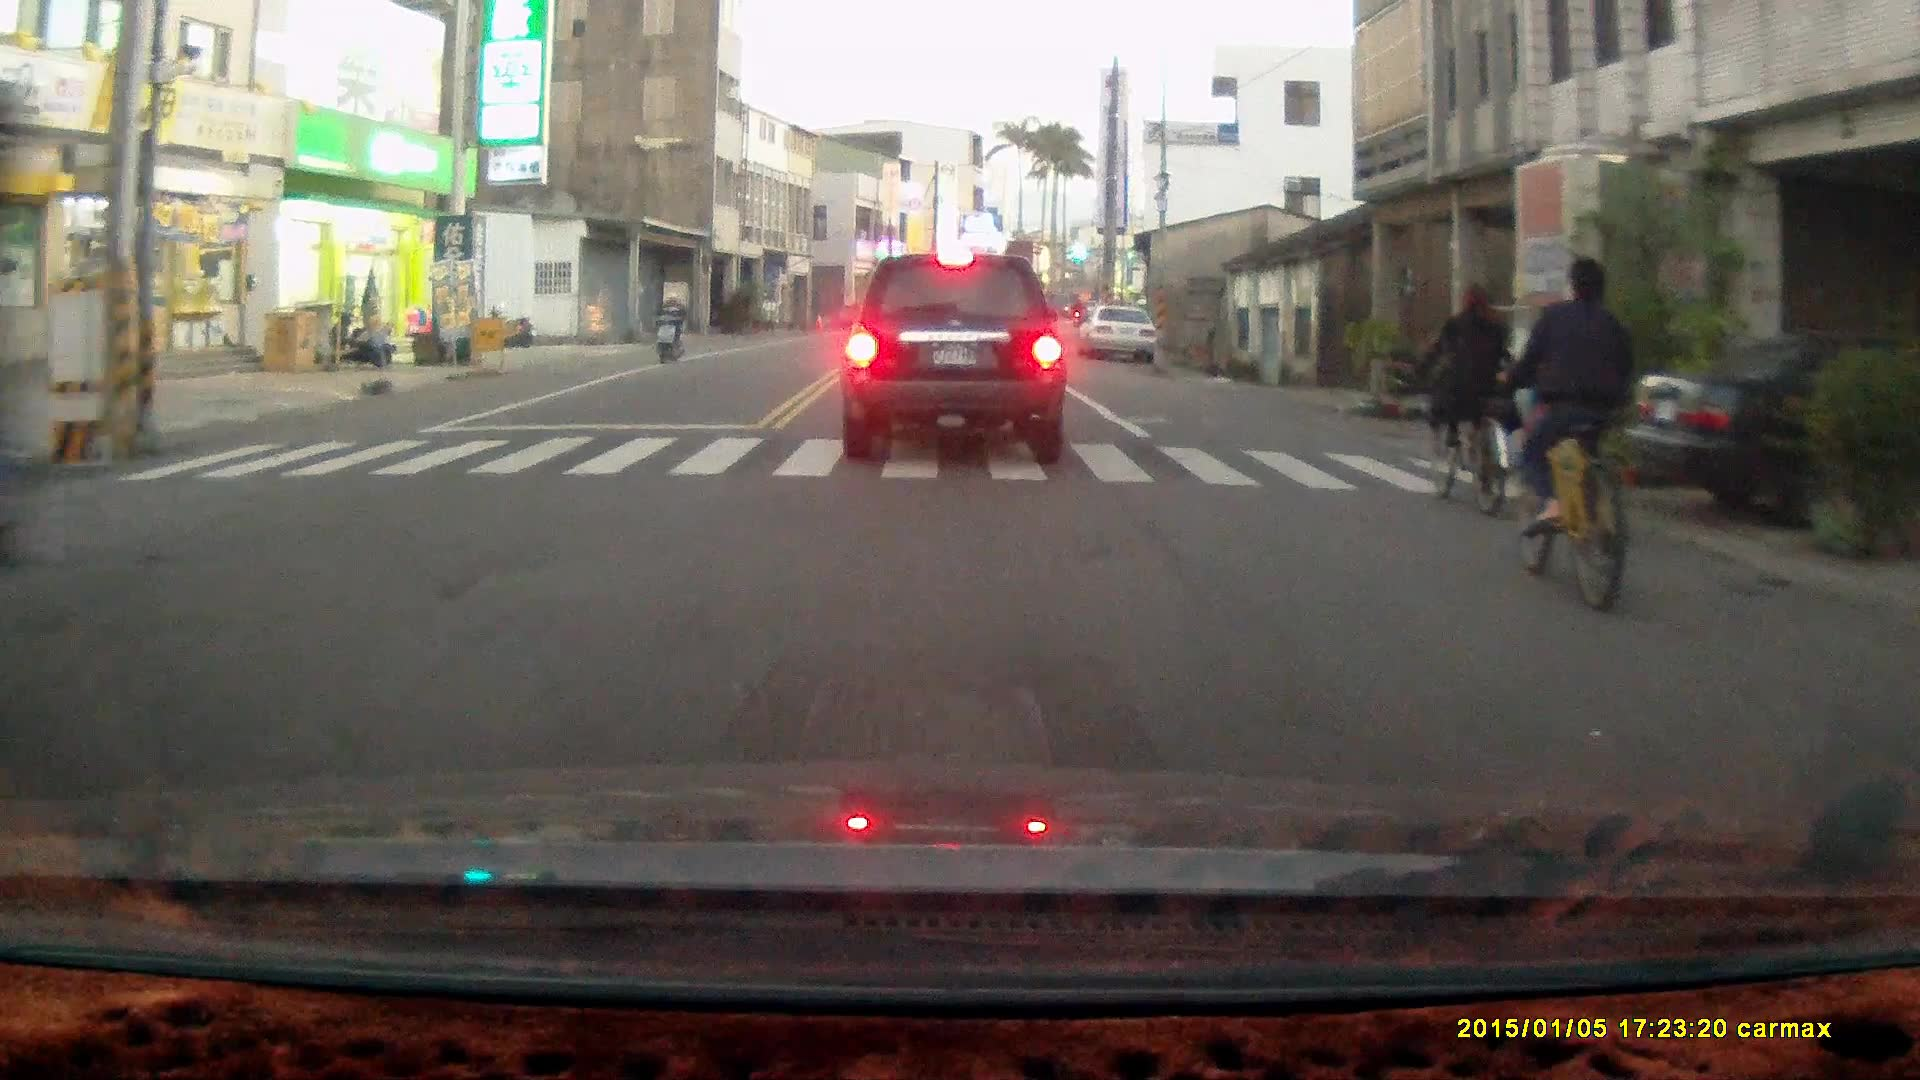rider: (1491, 252, 1635, 613), (1412, 280, 1517, 519), (652, 287, 687, 365)
vehicle: (1623, 333, 1920, 528), (835, 246, 1076, 462), (1085, 306, 1160, 366)
